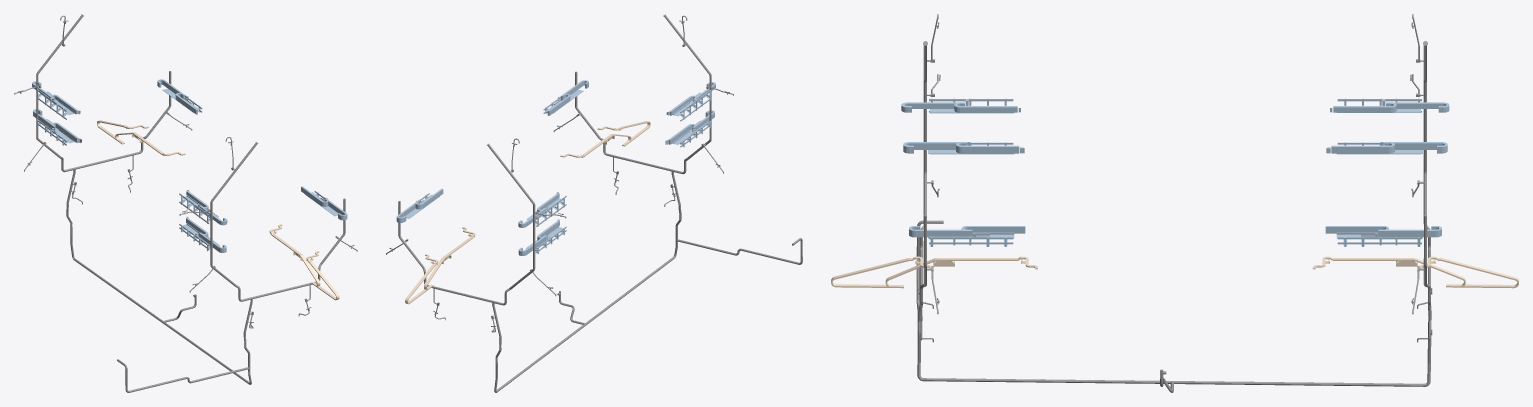
The model's file is Serv-Muon-SW-cut3.glb.
3 views of the same model, side by side, from view 1: azimuth 30°, elevation 25°; view 2: azimuth 150°, elevation 25°; view 3: azimuth 270°, elevation 25° (orthographic). The views are drawn at different scales.
Parts seen in each view (by area): view 1: Cabbles 1-cut3, Cabbles 2-cut3, Cabbles 3-cut3; view 2: Cabbles 1-cut3, Cabbles 2-cut3, Cabbles 3-cut3; view 3: Cabbles 2-cut3, Cabbles 1-cut3, Cabbles 3-cut3.
Part boxes in pixels (bbox=[...]): Cabbles 1-cut3: bbox=[14, 14, 357, 392]; Cabbles 2-cut3: bbox=[32, 79, 347, 252]; Cabbles 3-cut3: bbox=[97, 120, 339, 300]; Cabbles 1-cut3: bbox=[386, 14, 802, 392]; Cabbles 2-cut3: bbox=[396, 80, 715, 255]; Cabbles 3-cut3: bbox=[405, 121, 650, 304]; Cabbles 2-cut3: bbox=[901, 98, 1449, 246]; Cabbles 1-cut3: bbox=[916, 14, 1432, 392]; Cabbles 3-cut3: bbox=[831, 256, 1518, 288].
Bounding box in the file's own units: 20.13 × 20.28 × 35.
